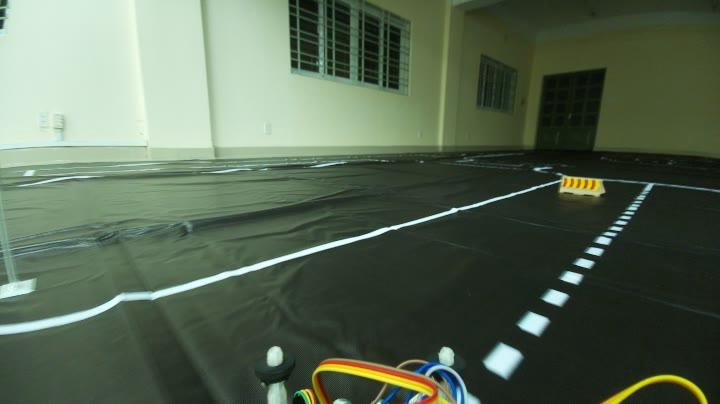roadblock: (555, 173, 609, 198)
